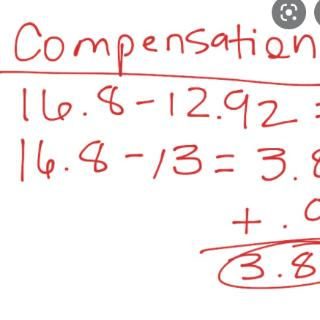.: (81, 109, 88, 120), (62, 165, 69, 173), (216, 113, 222, 121)
1: (16, 134, 27, 183), (19, 86, 31, 124), (152, 149, 165, 180), (166, 89, 176, 119)
2: (256, 99, 298, 129), (186, 84, 211, 120)
3: (255, 145, 288, 183), (171, 143, 202, 177)
8: (78, 139, 109, 174), (96, 82, 126, 116), (290, 250, 317, 281)
9: (223, 88, 251, 131)
